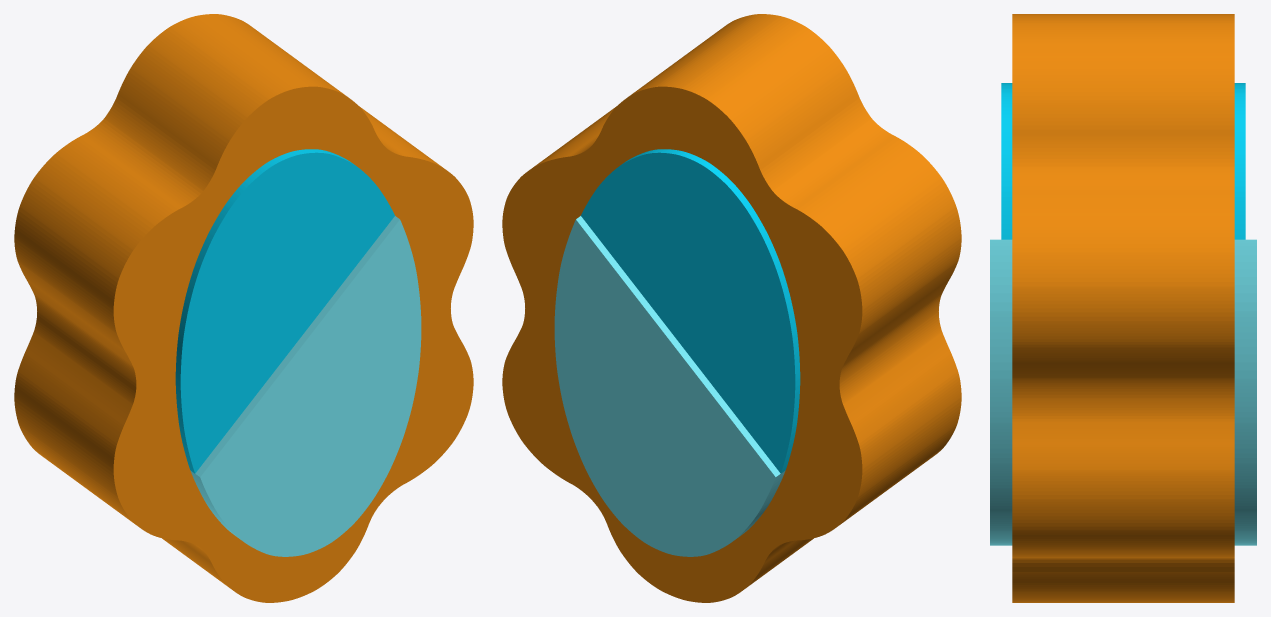
3 renders of one model, left to right at view 1: azimuth 30°, elevation 25°; view 2: azimuth 150°, elevation 25°; view 3: azimuth 270°, elevation 25°, orthographic. The views are drawn at different scales.
Visible parts, largest first — view 1: U+1FA9E_layer00_obj00, U+1FA9E_layer02_obj00, U+1FA9E_layer01_obj00; view 2: U+1FA9E_layer00_obj00, U+1FA9E_layer02_obj00, U+1FA9E_layer01_obj00; view 3: U+1FA9E_layer00_obj00, U+1FA9E_layer02_obj00, U+1FA9E_layer01_obj00.
Part boxes in pixels (bbox=[...]): U+1FA9E_layer00_obj00: bbox=[14, 14, 473, 602]; U+1FA9E_layer02_obj00: bbox=[190, 216, 421, 556]; U+1FA9E_layer01_obj00: bbox=[175, 149, 394, 473]; U+1FA9E_layer00_obj00: bbox=[502, 14, 961, 602]; U+1FA9E_layer02_obj00: bbox=[554, 216, 785, 556]; U+1FA9E_layer01_obj00: bbox=[581, 149, 800, 473]; U+1FA9E_layer00_obj00: bbox=[1012, 14, 1234, 602]; U+1FA9E_layer02_obj00: bbox=[990, 239, 1256, 545]; U+1FA9E_layer01_obj00: bbox=[1001, 83, 1245, 239].
Size of the model in its own units: 0.4188 by 0.5677 by 0.24.
